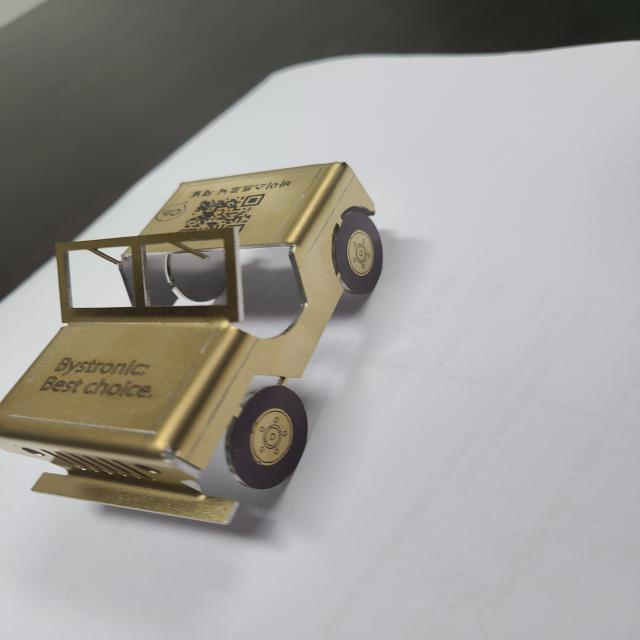tire: (225, 386, 311, 489), (334, 209, 387, 296)
